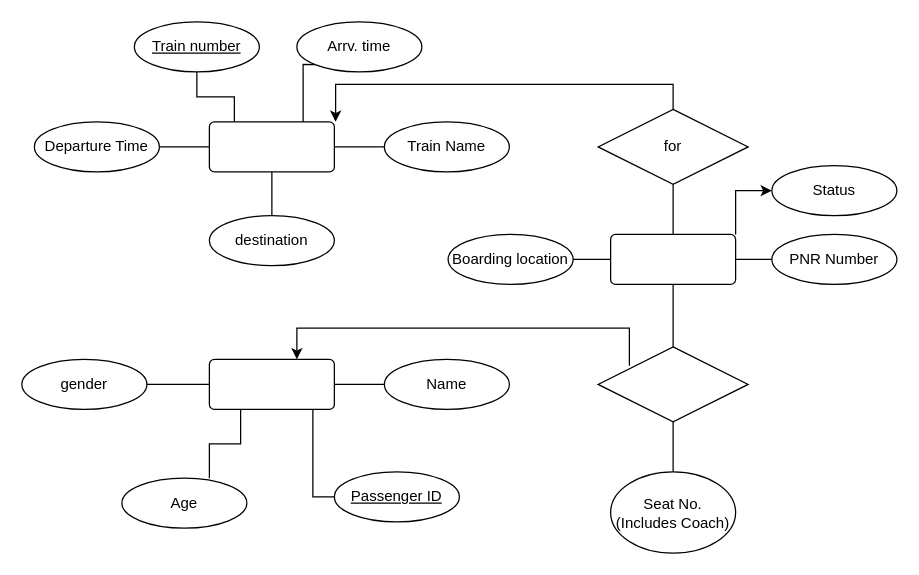
The diagram is 919 pixels wide and 575 high, and some of its shapes have lost their labels. Each missing label, with the centre of its shape:
Books: pixel 672 384
Passenger: pixel 271 383
Ticket: pixel 672 258
Train: pixel 271 146
